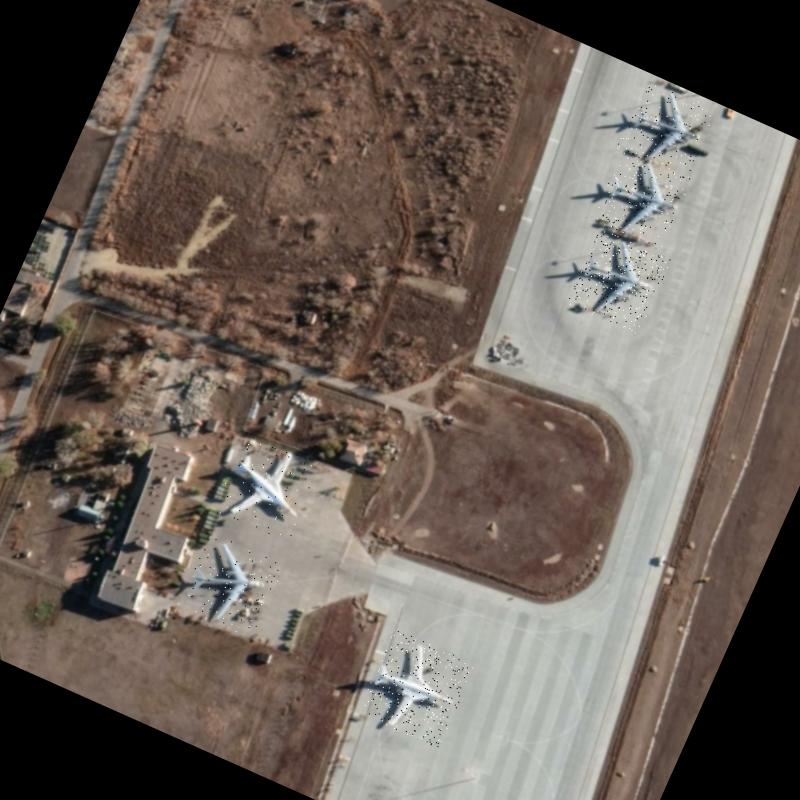A17: (177, 532, 285, 639), (566, 228, 672, 336), (616, 77, 718, 180), (592, 146, 693, 250)
A6: (357, 628, 476, 748), (212, 429, 324, 544)
